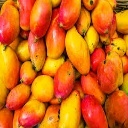mango: (29, 74, 54, 102)
